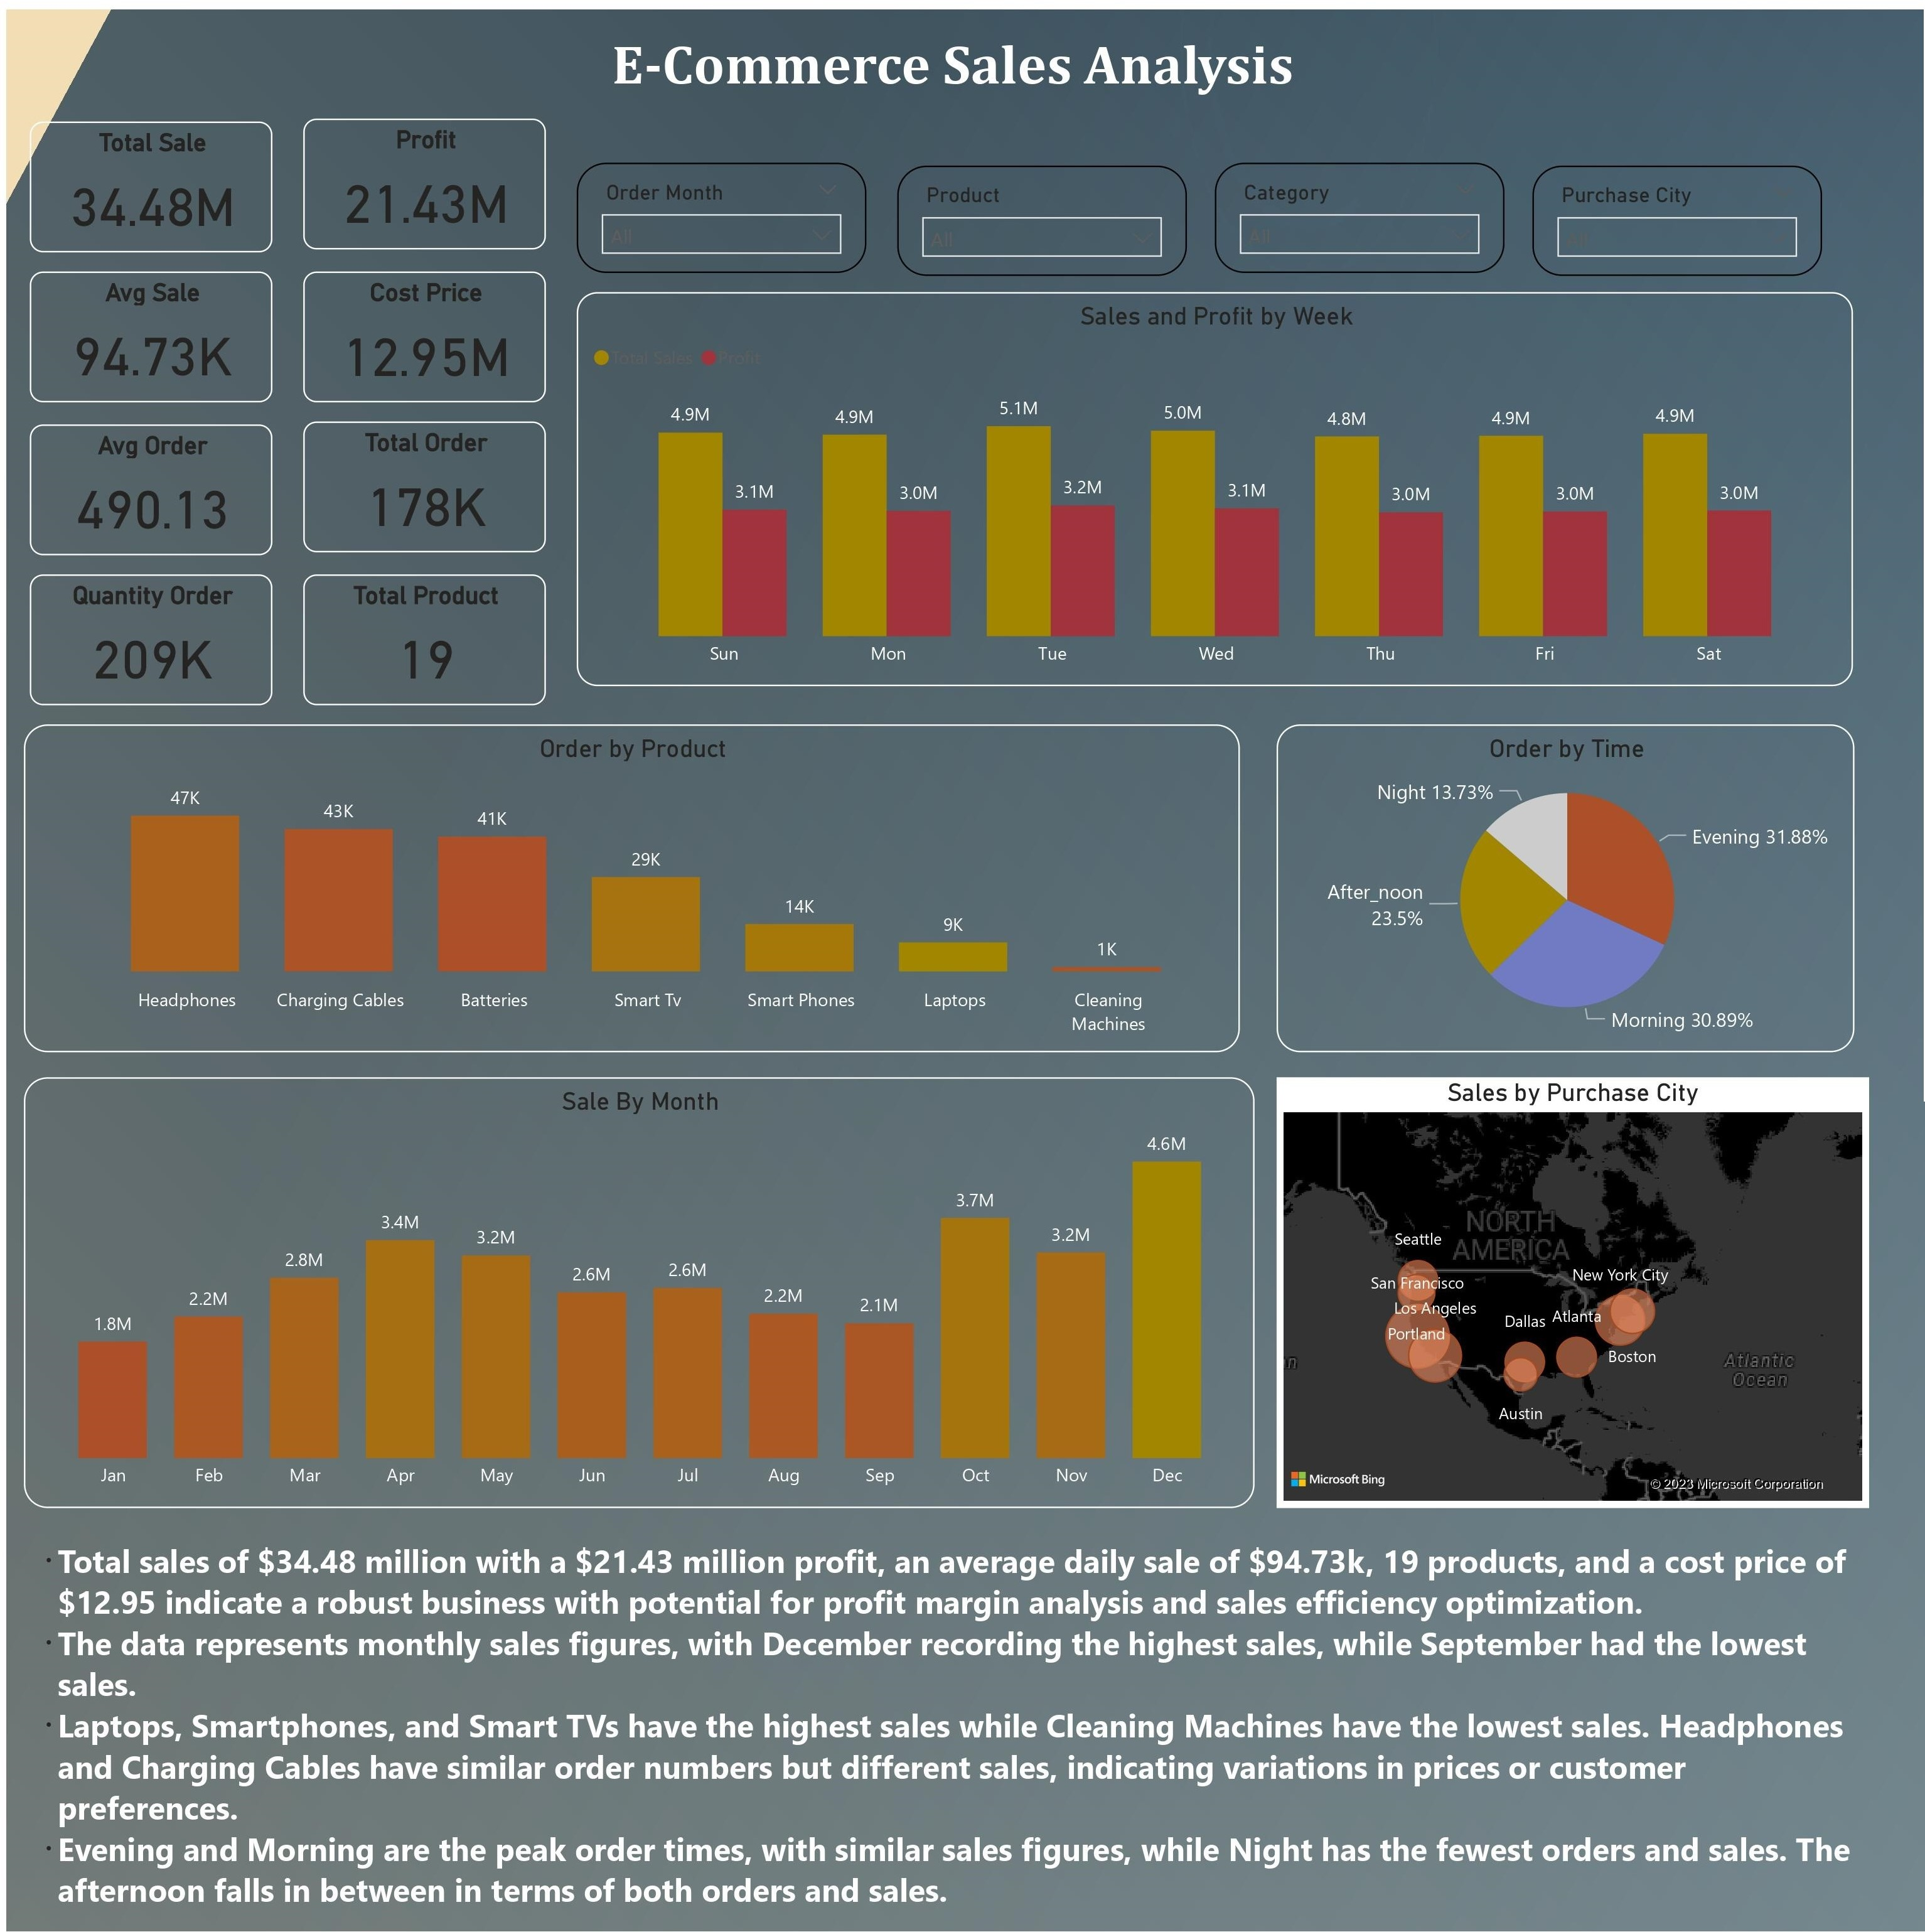

This screenshot's page, from the dashboard's own definition file:
{"tool":"powerbi","page":{"name":"Page 1","canvas":[1280,1300],"ordinal":0},"visuals":[{"type":"textbox","box":[388.3,10,511.7,66.7],"z":0},{"type":"clusteredColumnChart","title":"Sale By Month","fields":{"Category":["Sale Data.Order Month"],"Y":["All Measures.Total Sales"]},"box":[11.7,726.7,836.7,293.3],"z":1000},{"type":"card","title":"Total Order","fields":{"Values":["All Measures.Total Order"]},"box":[202.6,280.7,165.3,89.1],"z":2000},{"type":"card","title":"Quantity Order","fields":{"Values":["All Measures.Total Quantity Order"]},"box":[16.2,383.7,165.3,89.1],"z":3000},{"type":"card","title":"Total Sale","fields":{"Values":["All Measures.Total Sales"]},"box":[16.2,76.2,165.3,89.1],"z":4000},{"type":"card","title":"Cost Price","fields":{"Values":["All Measures.cost Price"]},"box":[202.6,177.7,165.3,89.1],"z":5000},{"type":"card","title":"Profit","fields":{"Values":["All Measures.Profit"]},"box":[202.6,74.7,165.3,89],"z":6000},{"type":"card","title":"Avg Sale","fields":{"Values":["All Measures.Avg Sale"]},"box":[16.2,178.7,165.3,89],"z":7000},{"type":"card","title":"Avg Order","fields":{"Values":["All Measures.Avg Order"]},"box":[16.2,281.2,165.3,89.1],"z":8000},{"type":"card","title":"Total Product","fields":{"Values":["All Measures.Total Product"]},"box":[202.7,383.7,165,89],"z":9000},{"type":"pieChart","title":"Order by Time","fields":{"Category":["Sale Data.Time_Zone"],"Y":["All Measures.Total Order"]},"box":[863.3,485,393.3,223.3],"z":10000},{"type":"map","title":"Sales by Purchase City","fields":{"Category":["Sale Data.Purchase City"],"Size":["All Measures.Total Sales"]},"box":[863.2,726.8,403.1,293.2],"z":11000},{"type":"columnChart","title":"Order by Product","fields":{"Category":["Sale Data.Sub_Product"],"Y":["All Measures.Total Order"]},"box":[11.7,485,826.7,223.3],"z":12000},{"type":"clusteredColumnChart","title":"Sales and Profit by Week","fields":{"Category":["Sale Data.Week"],"Y":["All Measures.Total Sales","All Measures.Profit"]},"box":[388.3,191.7,868.3,268.3],"z":13000},{"type":"slicer","fields":{"Values":["Sale Data.Order Month"]},"box":[388.3,103.3,196.7,75],"z":14000},{"type":"slicer","fields":{"Values":["Sale Data.Product"]},"box":[605,105,196.7,75],"z":15000},{"type":"slicer","fields":{"Values":["Sale Data.Category"]},"box":[821.7,103.3,196.7,75],"z":16000},{"type":"slicer","fields":{"Values":["Sale Data.Purchase City"]},"box":[1038.3,106.7,196.7,75],"z":17000},{"type":"textbox","box":[12,1030,1256,270],"z":18000}]}

Visuals, with their boxes in screenshot pixels (x1, y1, x2, y2), scaled from the page's 1280x1300 canvas onto the 1925x1932 screenshot:
textbox: {"left": 584, "top": 15, "right": 1353, "bottom": 114}
"Sale By Month" clusteredColumnChart: {"left": 18, "top": 1080, "right": 1276, "bottom": 1516}
"Total Order" card: {"left": 304, "top": 417, "right": 554, "bottom": 550}
"Quantity Order" card: {"left": 24, "top": 570, "right": 273, "bottom": 702}
"Total Sale" card: {"left": 24, "top": 113, "right": 273, "bottom": 245}
"Cost Price" card: {"left": 304, "top": 264, "right": 554, "bottom": 397}
"Profit" card: {"left": 304, "top": 111, "right": 554, "bottom": 244}
"Avg Sale" card: {"left": 24, "top": 266, "right": 273, "bottom": 398}
"Avg Order" card: {"left": 24, "top": 418, "right": 273, "bottom": 550}
"Total Product" card: {"left": 305, "top": 570, "right": 553, "bottom": 702}
"Order by Time" pieChart: {"left": 1299, "top": 721, "right": 1890, "bottom": 1053}
"Sales by Purchase City" map: {"left": 1298, "top": 1080, "right": 1904, "bottom": 1516}
"Order by Product" columnChart: {"left": 18, "top": 721, "right": 1261, "bottom": 1053}
"Sales and Profit by Week" clusteredColumnChart: {"left": 584, "top": 285, "right": 1890, "bottom": 684}
slicer - Sale Data.Order Month: {"left": 584, "top": 154, "right": 880, "bottom": 265}
slicer - Sale Data.Product: {"left": 910, "top": 156, "right": 1206, "bottom": 267}
slicer - Sale Data.Category: {"left": 1236, "top": 154, "right": 1531, "bottom": 265}
slicer - Sale Data.Purchase City: {"left": 1562, "top": 159, "right": 1857, "bottom": 270}
textbox: {"left": 18, "top": 1531, "right": 1907, "bottom": 1931}
